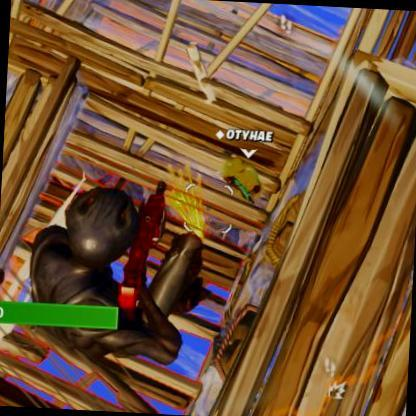person: (224, 156, 255, 194)
